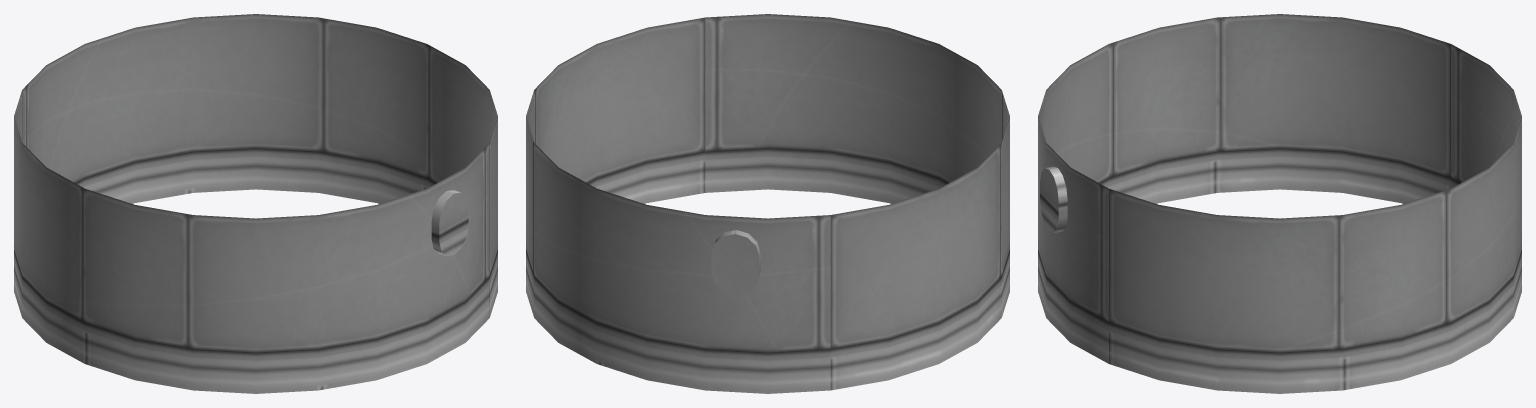
File: tantares_fuel_tank_s1_1.obj
3 renders of one model, left to right at view 1: azimuth 30°, elevation 25°; view 2: azimuth 150°, elevation 25°; view 3: azimuth 270°, elevation 25°, orthographic.
Parts seen in each view (by area): view 1: mesh2; view 2: mesh2; view 3: mesh2.
Boxes of the visible parts, bbox=[...] form: mesh2: bbox=[14, 14, 497, 393]; mesh2: bbox=[526, 14, 1009, 393]; mesh2: bbox=[1038, 14, 1521, 393].
Size of the model in its own units: 1.25 by 0.5 by 1.25.
